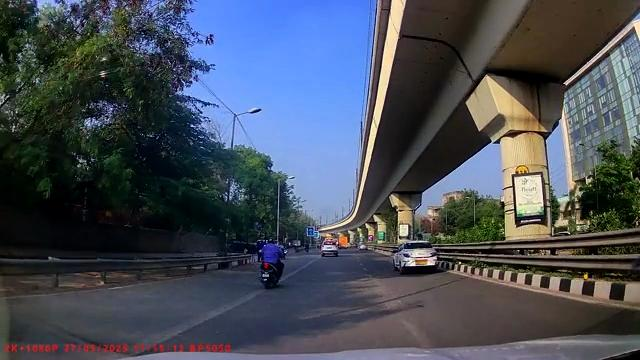motorcycle_with_helmet: (259, 237, 286, 290)
